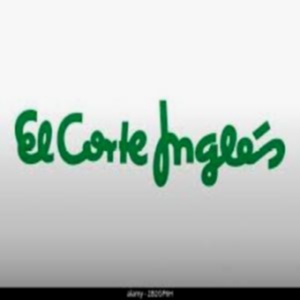corte_ingles: (281, 48, 293, 143)
